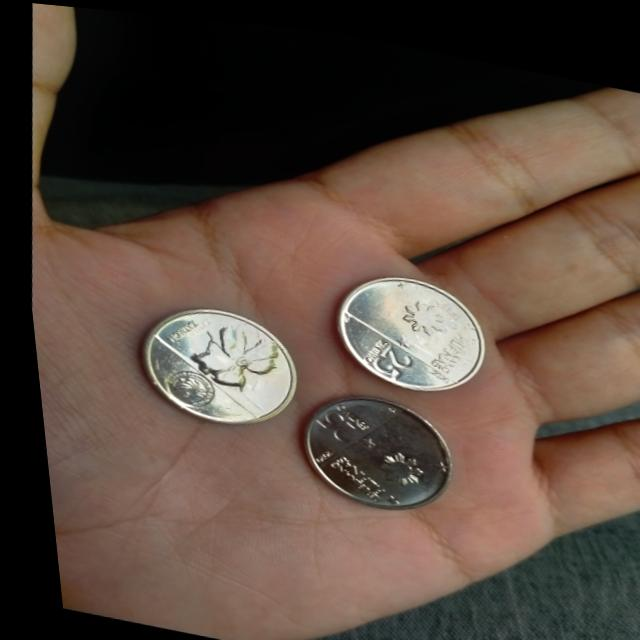25Cent_New_Back: (159, 304, 283, 394)
25Cent_New_Front: (348, 321, 414, 378), (302, 391, 364, 442)
